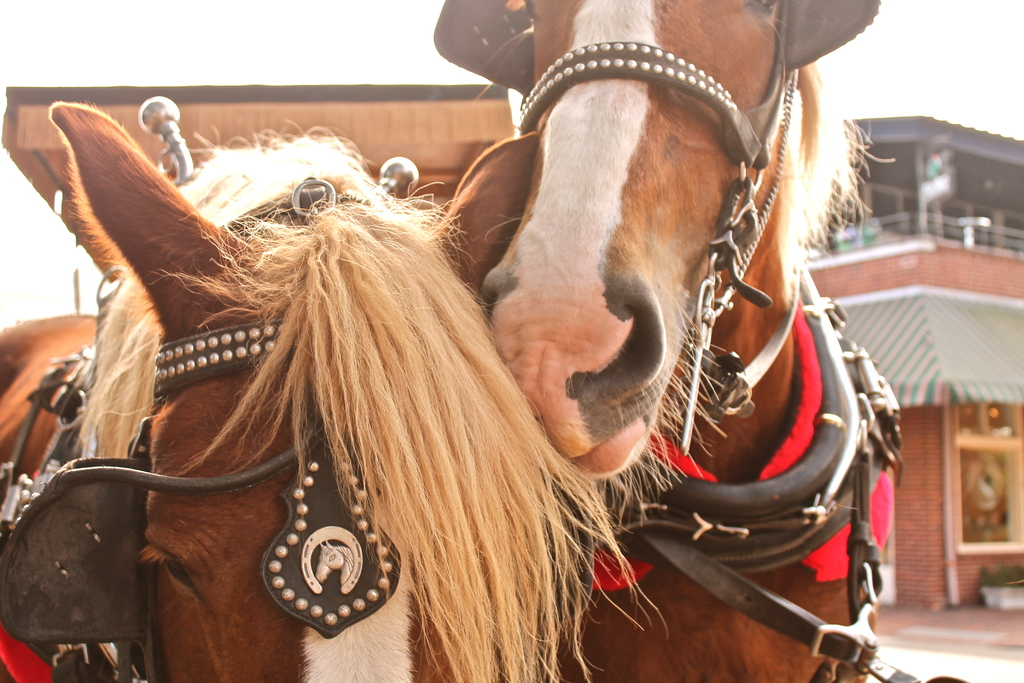Horse: (0, 100, 669, 683), (435, 0, 903, 683)
